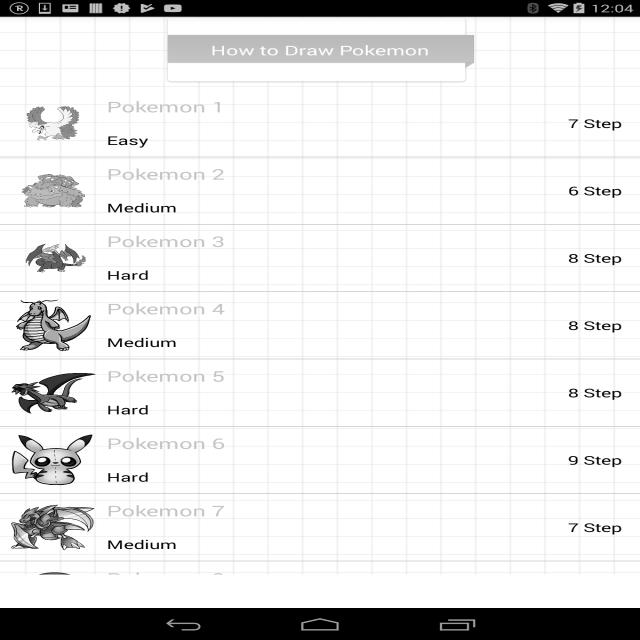ImageView: (21, 434, 102, 495), (13, 101, 91, 147), (9, 304, 82, 352), (13, 504, 86, 544), (8, 178, 88, 212), (2, 382, 100, 409), (20, 247, 91, 276)
TextView: (106, 302, 266, 352), (166, 38, 454, 62), (97, 95, 248, 122), (93, 532, 207, 559), (108, 370, 234, 391), (91, 240, 270, 254), (560, 244, 637, 274), (548, 377, 630, 404), (104, 467, 199, 490), (115, 162, 224, 182), (558, 311, 632, 335), (95, 202, 197, 218), (556, 516, 633, 537), (95, 268, 195, 284), (556, 450, 627, 472), (558, 181, 623, 201), (102, 134, 166, 152), (558, 115, 636, 124)
